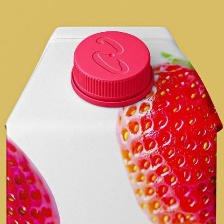carton: (3, 24, 224, 224)
